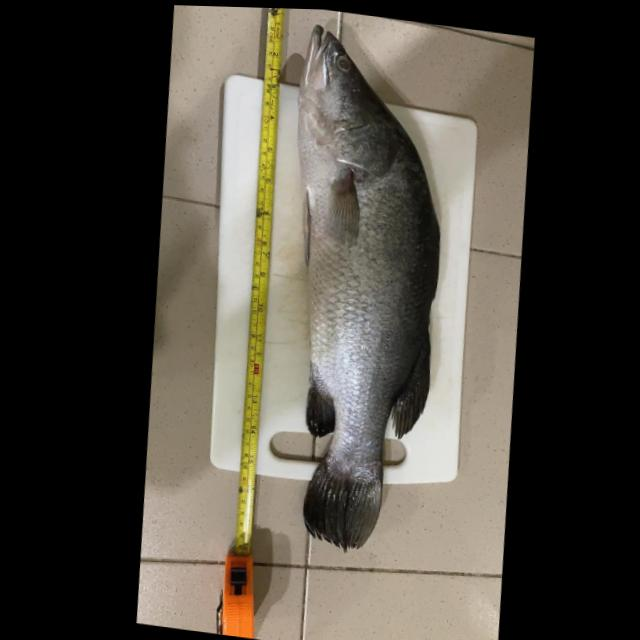Seabass: (254, 21, 475, 562)
